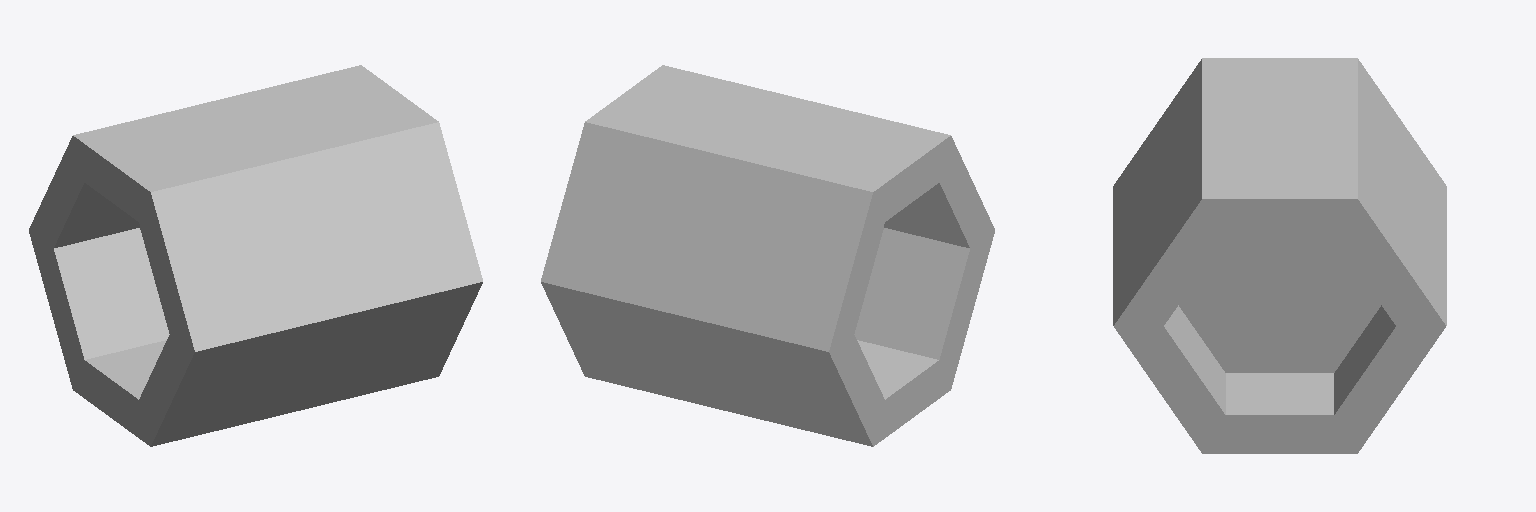
File: hexagon.obj
3 views of the same model, side by side, from view 1: azimuth 30°, elevation 25°; view 2: azimuth 150°, elevation 25°; view 3: azimuth 270°, elevation 25° (orthographic).
Parts seen in each view (by area): view 1: Cube.002_Cube.003; view 2: Cube.002_Cube.003; view 3: Cube.002_Cube.003.
Part boxes in pixels (left/top/right/bottom): Cube.002_Cube.003: left=29, top=65, right=482, bottom=446; Cube.002_Cube.003: left=541, top=65, right=994, bottom=446; Cube.002_Cube.003: left=1113, top=58, right=1446, bottom=453.
Bounding box in the file's own units: 2 × 1.69 × 2.